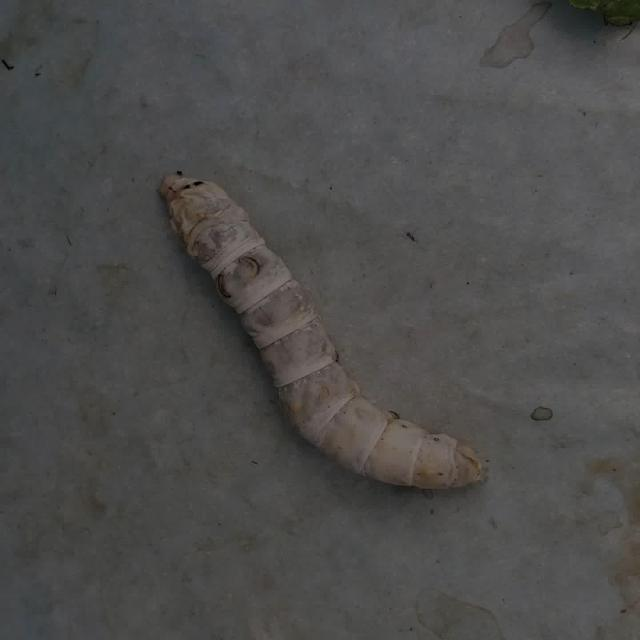Grasserie: (128, 153, 506, 506)
